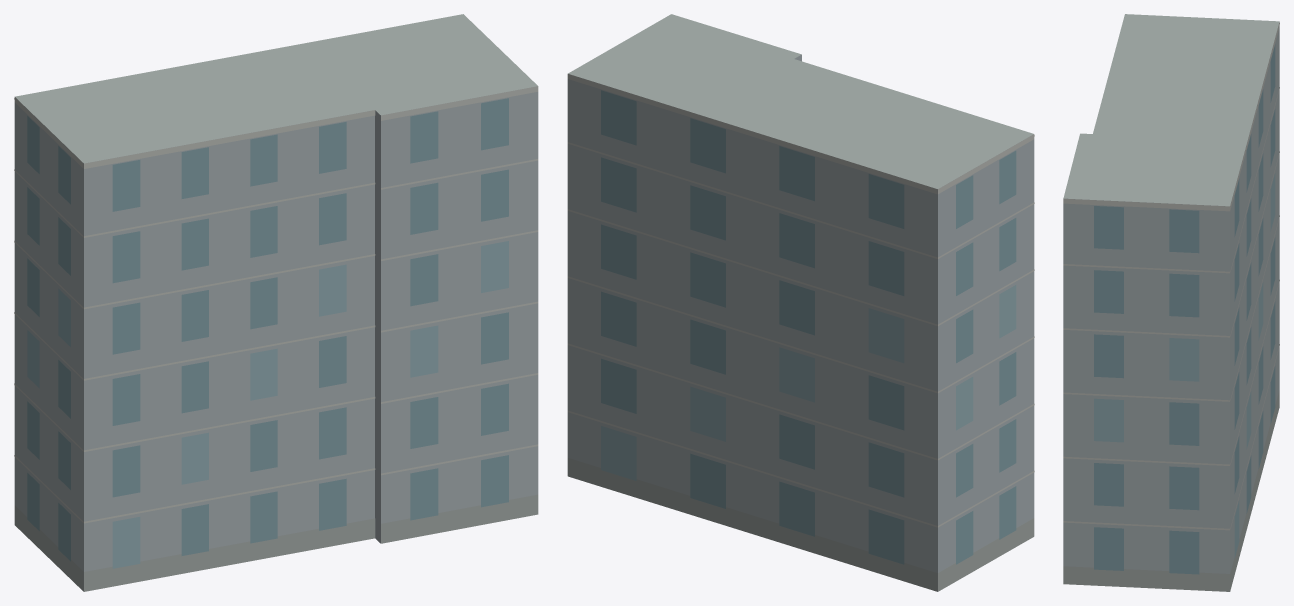
The model's file is survey-upis-32794677.glb.
3 views of the same model, side by side, from view 1: azimuth 30°, elevation 25°; view 2: azimuth 150°, elevation 25°; view 3: azimuth 270°, elevation 25° (orthographic). The views are drawn at different scales.
Parts seen in each view (by area): view 1: survey-upis-32794677.tmp; view 2: survey-upis-32794677.tmp; view 3: survey-upis-32794677.tmp.
Boxes of the visible parts, x1,y1,x2,y2 form: survey-upis-32794677.tmp: (14,14,538,591); survey-upis-32794677.tmp: (567,14,1034,591); survey-upis-32794677.tmp: (1063,14,1279,591).
Bounding box in the file's own units: 20.09 × 18.75 × 9.56.
